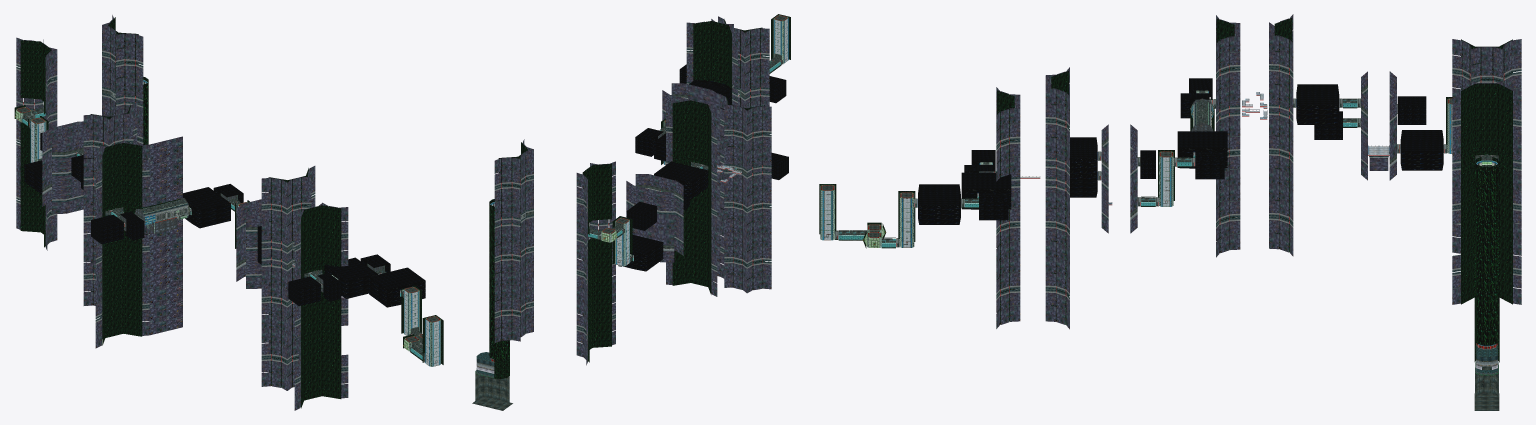
Rendered from EternalEngine.obj.
3 views of the same model, side by side, from view 1: azimuth 30°, elevation 25°; view 2: azimuth 150°, elevation 25°; view 3: azimuth 270°, elevation 25° (orthographic). The views are drawn at different scales.
Bounding box in the file's own units: 3646 × 4705 × 9750.
43 materials, 43 textured.
